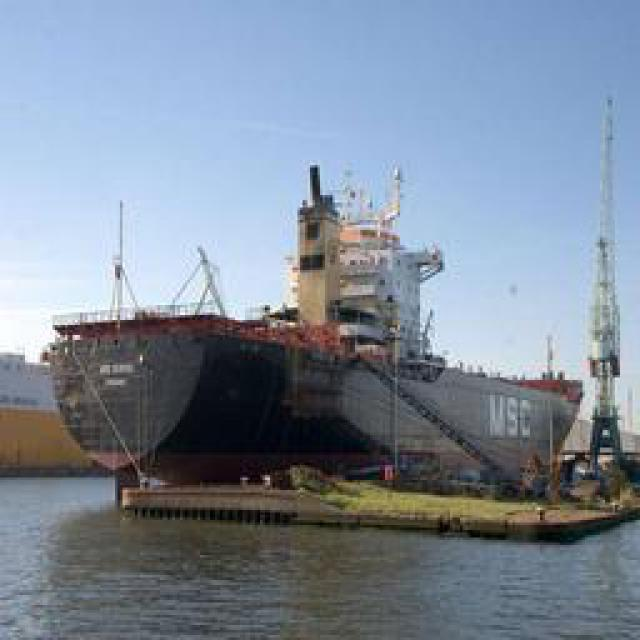Ship: (42, 156, 582, 489)
